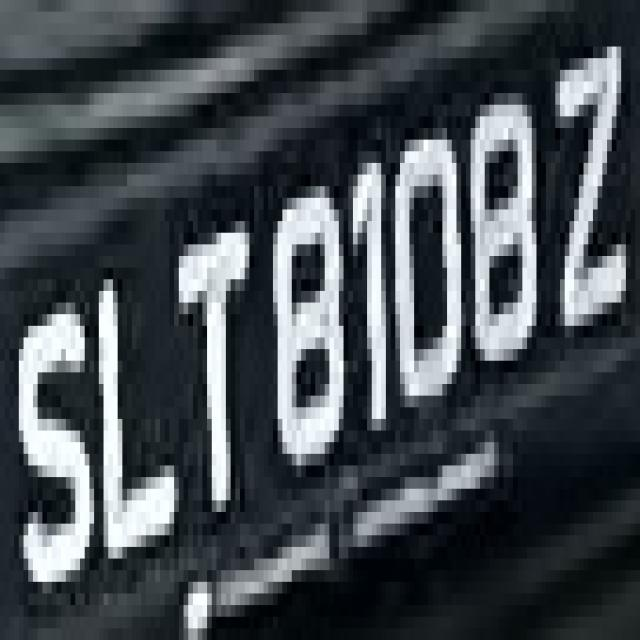0: (391, 116, 475, 419)
1: (344, 117, 396, 466)
8: (456, 81, 546, 408), (264, 151, 344, 489)
L: (90, 256, 174, 593)
S: (5, 279, 94, 605)
T: (170, 198, 264, 512)
Z: (532, 23, 635, 361)
